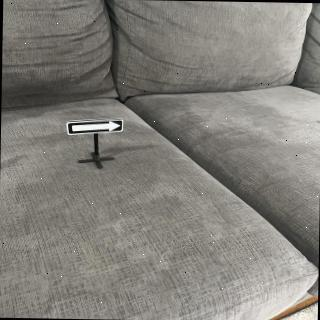sign_oneway_right: (66, 118, 125, 138)
